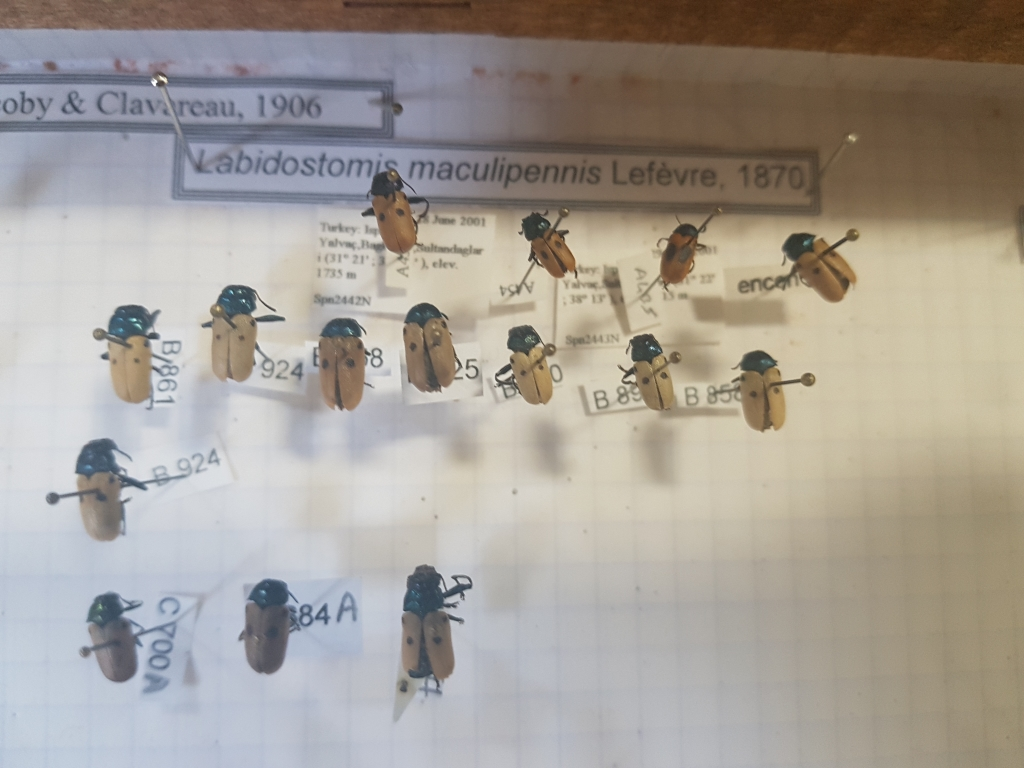Labidostomis_maculipennis: (396, 559, 465, 689), (198, 279, 279, 384), (96, 303, 164, 413), (395, 301, 467, 401), (241, 574, 300, 688), (73, 439, 135, 547), (782, 227, 858, 311), (618, 328, 684, 419), (316, 309, 372, 411), (494, 318, 561, 402), (517, 205, 588, 284), (365, 166, 424, 261), (731, 343, 790, 432)
